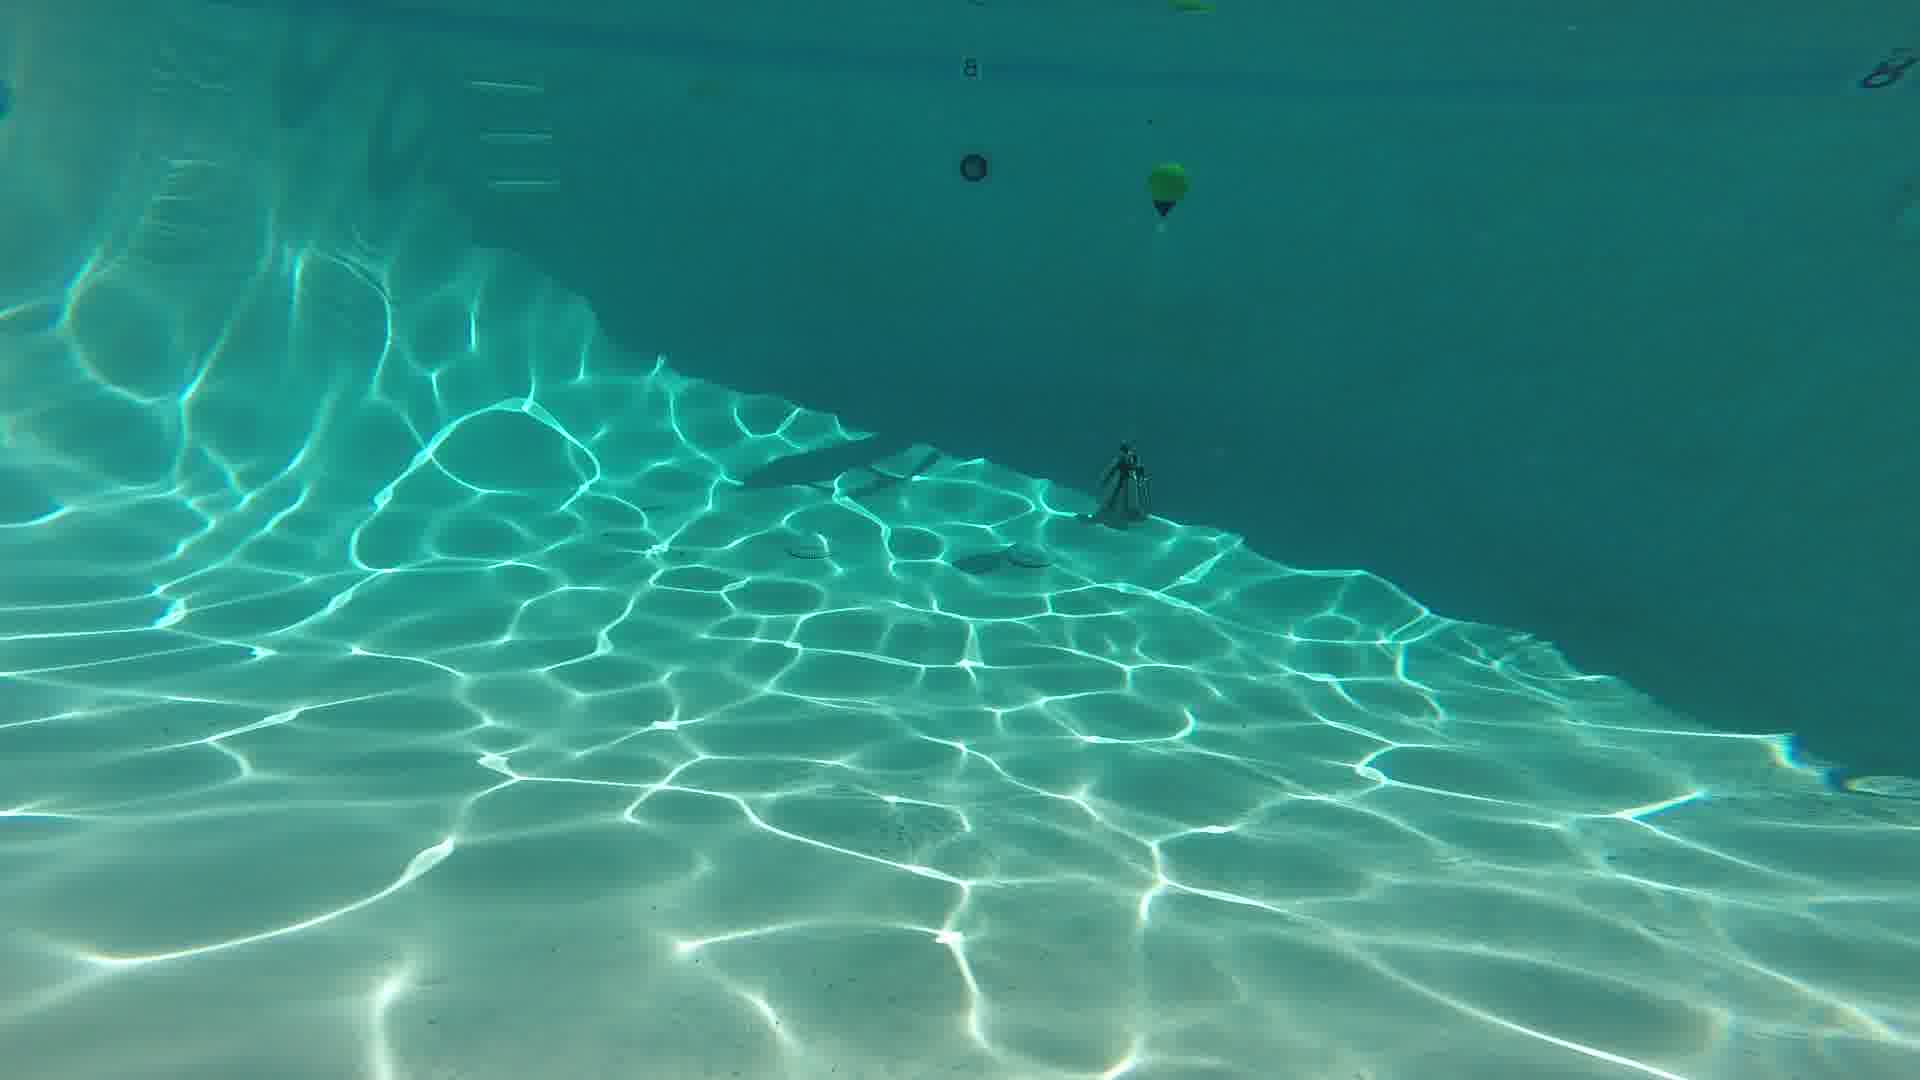yellow_buoy: (1146, 162, 1184, 218)
